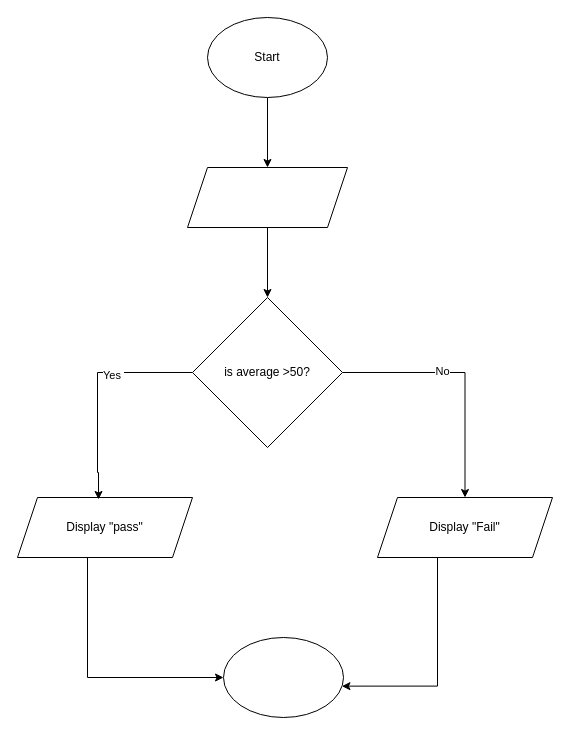
This 570x735 diagram has some shape labels left out. Each missing label, with the centre of its shape:
Read average marks: [267,197]
Stop: [283,677]
